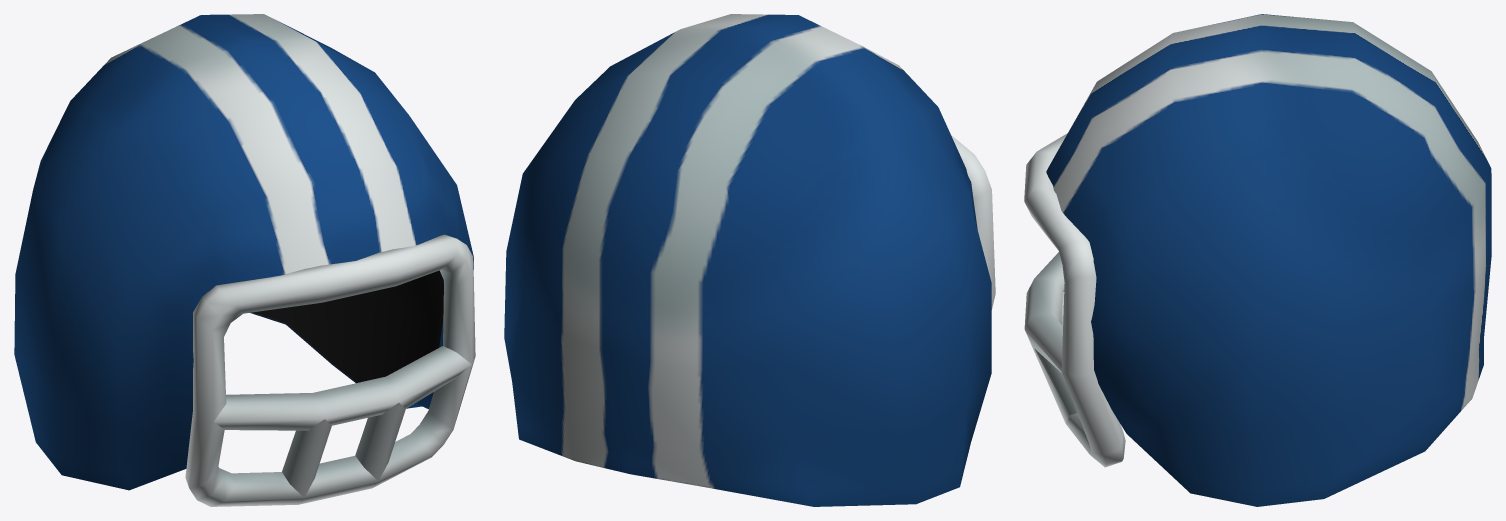
File: Football.glb
3 views of the same model, side by side, from view 1: azimuth 30°, elevation 25°; view 2: azimuth 150°, elevation 25°; view 3: azimuth 270°, elevation 25° (orthographic). The views are drawn at different scales.
Parts seen in each view (by area): view 1: m_RugbyHelmet01; view 2: m_RugbyHelmet01; view 3: m_RugbyHelmet01.
Boxes of the visible parts, x1=… form: m_RugbyHelmet01: x1=14, y1=14, x2=475, y2=506; m_RugbyHelmet01: x1=504, y1=14, x2=995, y2=506; m_RugbyHelmet01: x1=1024, y1=14, x2=1491, y2=506.
Size of the model in its own units: 0.7863 by 0.7287 by 0.7958.
1 material, 1 textured.
